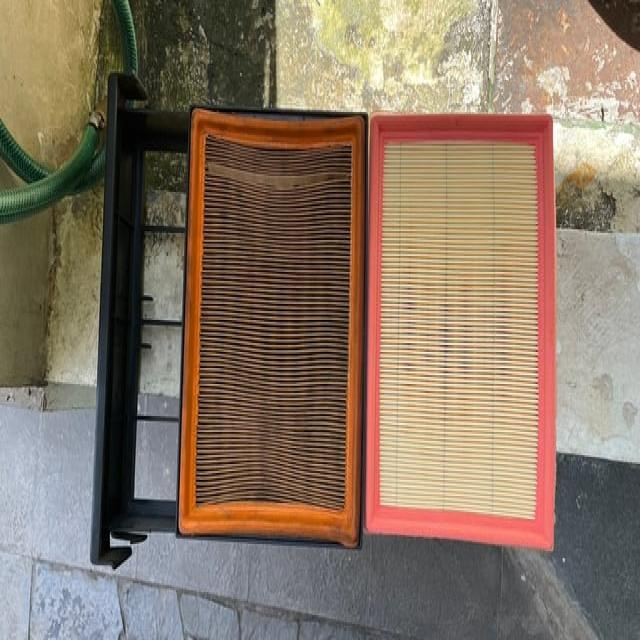air_filter: (368, 109, 557, 553), (176, 113, 368, 547)
